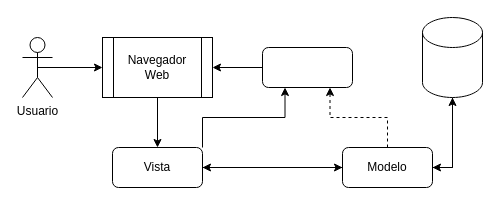
This 500x205 diagram has some shape labels left out. Here are the shapes that lost their labels. From the top down, the centre of each, then its label:
point (307, 67): Plantilla
point (452, 57): Base de Datos
